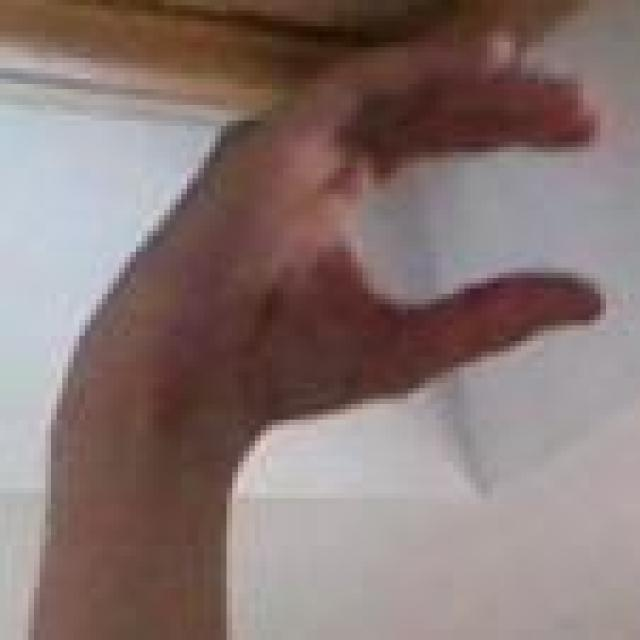C: (1, 2, 640, 444)
